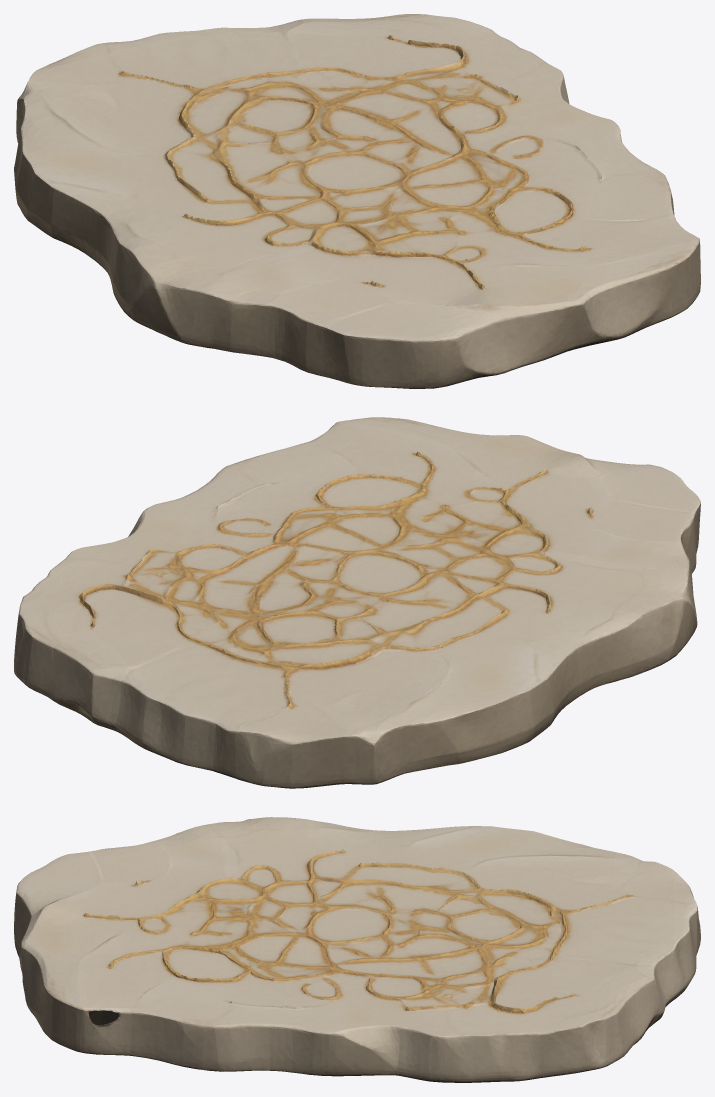
3 views of the same model, one above another, from view 1: azimuth 30°, elevation 25°; view 2: azimuth 150°, elevation 25°; view 3: azimuth 270°, elevation 25° (orthographic). The views are drawn at different scales.
Visible parts, largest first — view 1: world; view 2: world; view 3: world.
Boxes of the visible parts, box(x1,y1,x2,y2) form: world: box(14, 14, 700, 388); world: box(14, 417, 700, 788); world: box(14, 817, 700, 1082).
Bounding box in the file's own units: 0.7772 × 0.0805 × 0.9992.
Materials: 1 (1 with a texture image).
